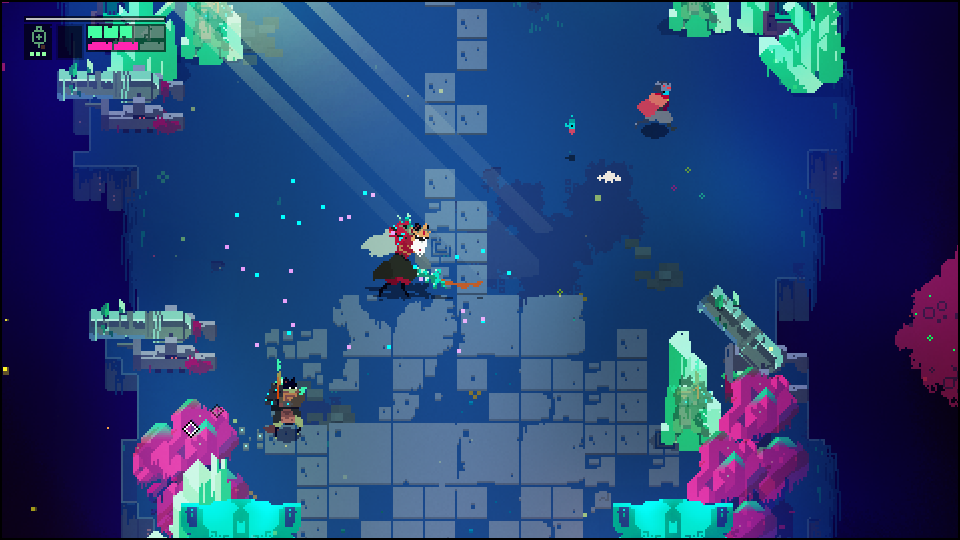hanged_man: (365, 210, 443, 292)
player: (638, 80, 678, 126)
